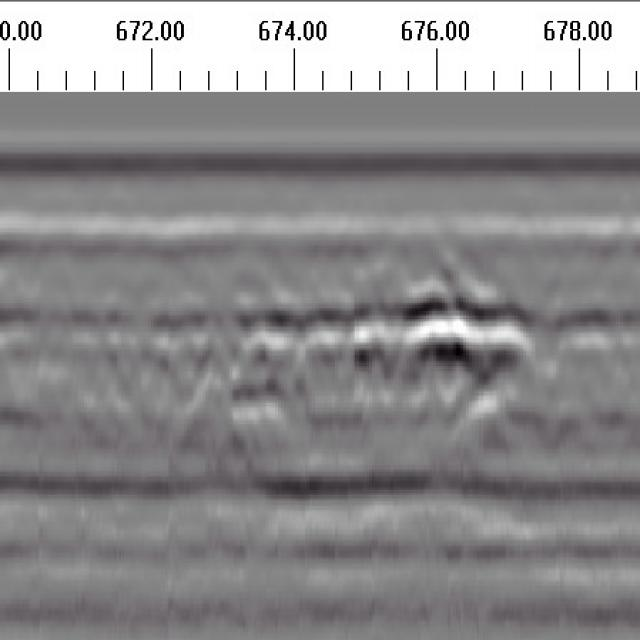loose: (124, 286, 547, 417)
